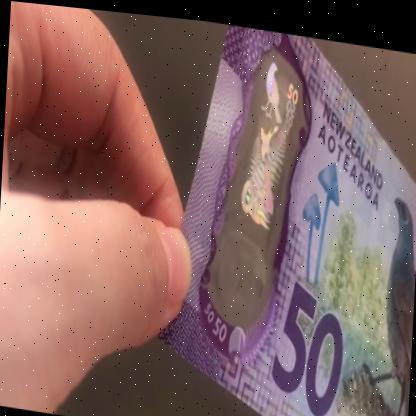50B: (221, 44, 300, 319)
